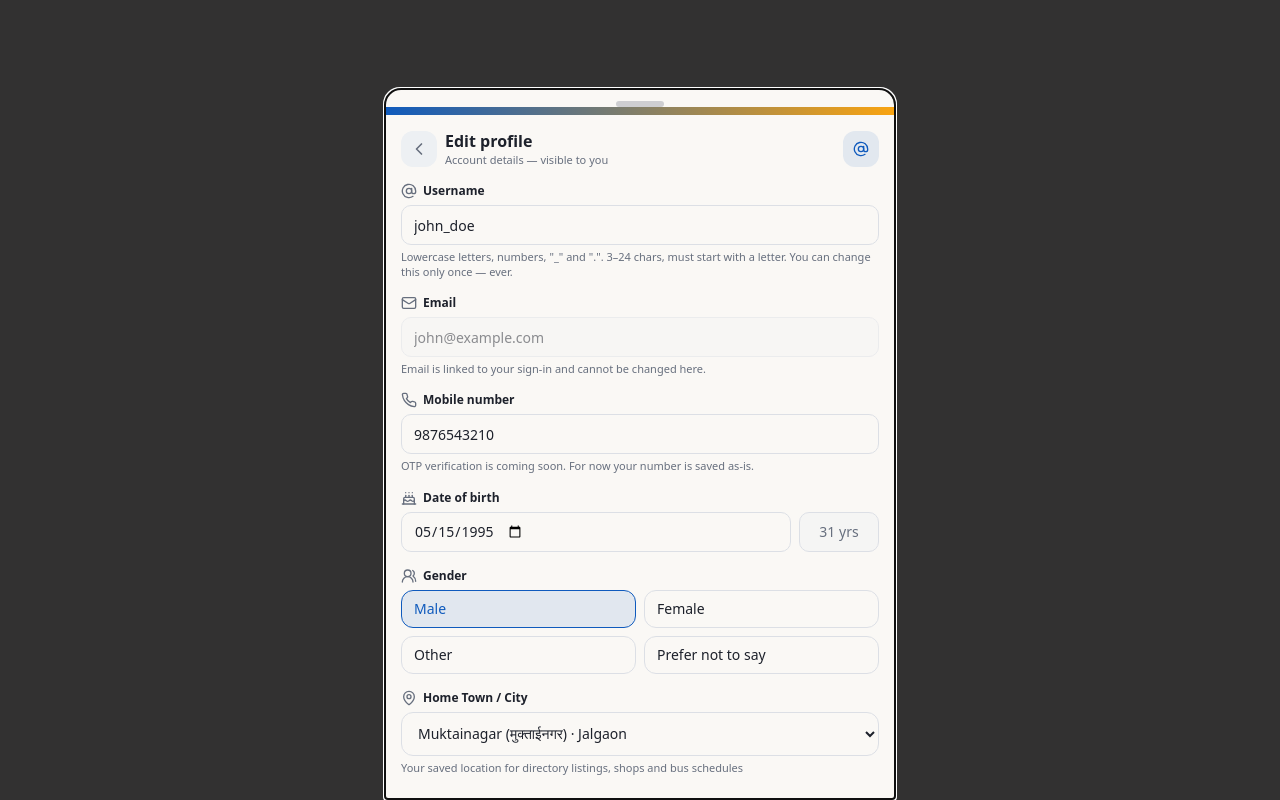
Test: Swipe-Down to Close Mobile Gesture › EditProfileDrawer Unsaved Edits Guard › shows confirmation dialog if user modifies fields and keeps editing
The width and height of the screenshot is (1280, 800).
Modify the phone number field
Replace the text in the field showing "9876543210" below "Mobile number" with "9123456789" at (640, 434), box [401, 414, 879, 454]
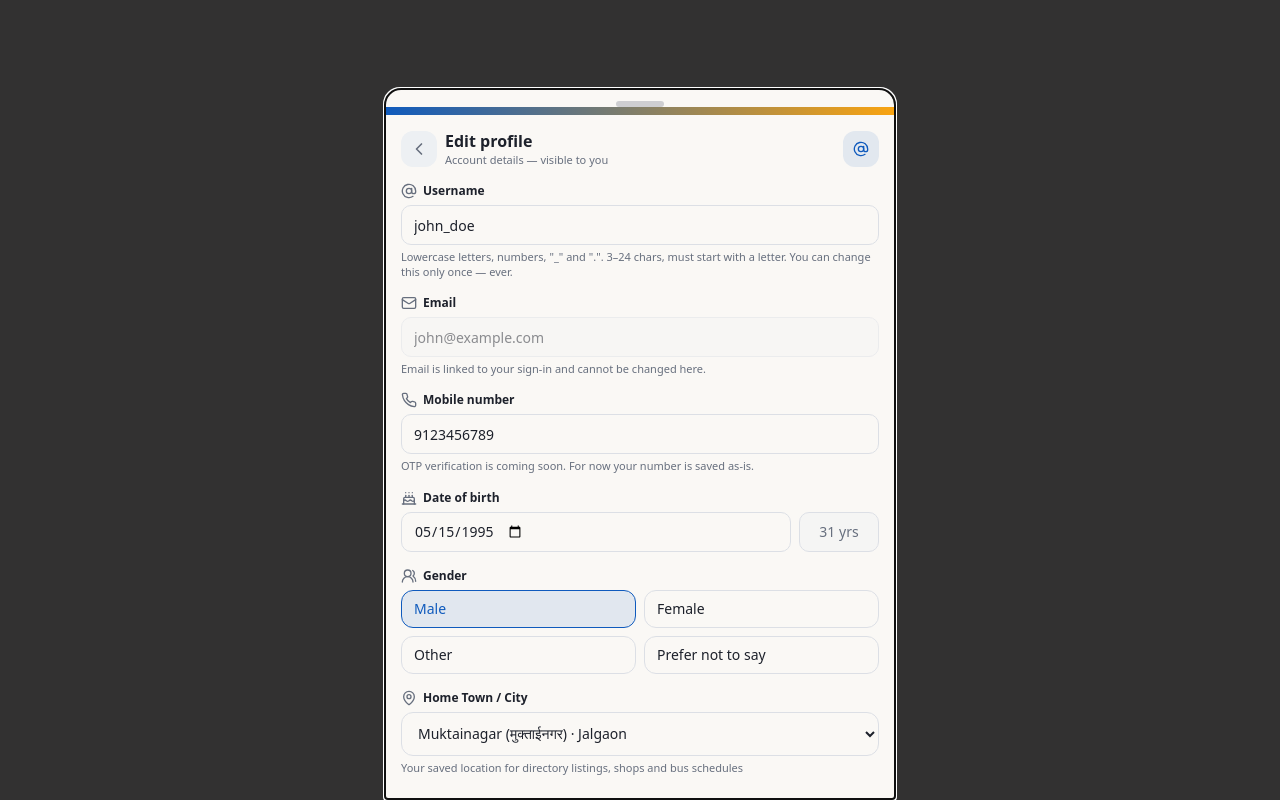
Click the Back / Close button (which calls requestClose)
Click the button named "Back" at (419, 149), box [401, 131, 437, 167]
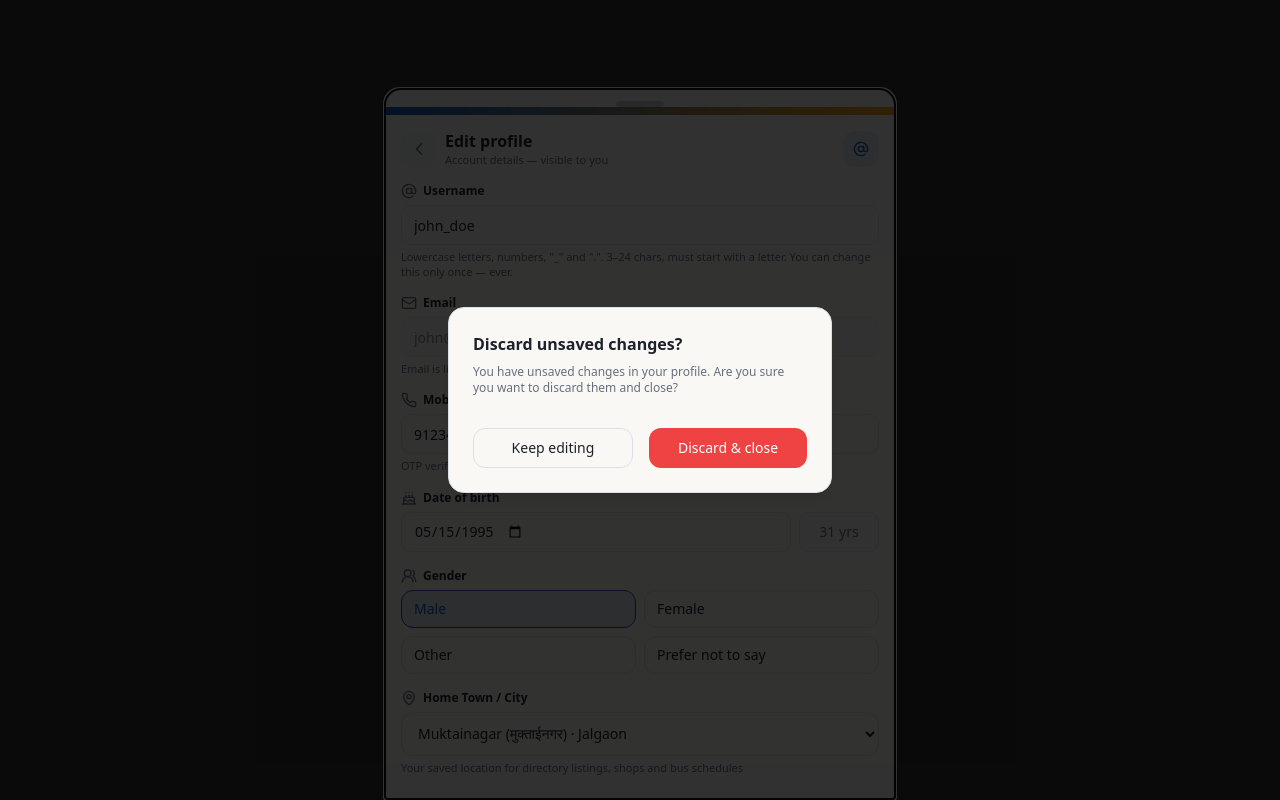
Check: the heading "Discard unsaved changes?" is shown, box [473, 333, 682, 355]
Check: the text "You have unsaved changes in your profile. Are you sure you want to discard them and close?" is shown, box [473, 363, 784, 396]
Click the button "Keep editing" at (553, 448), box [473, 428, 633, 468]
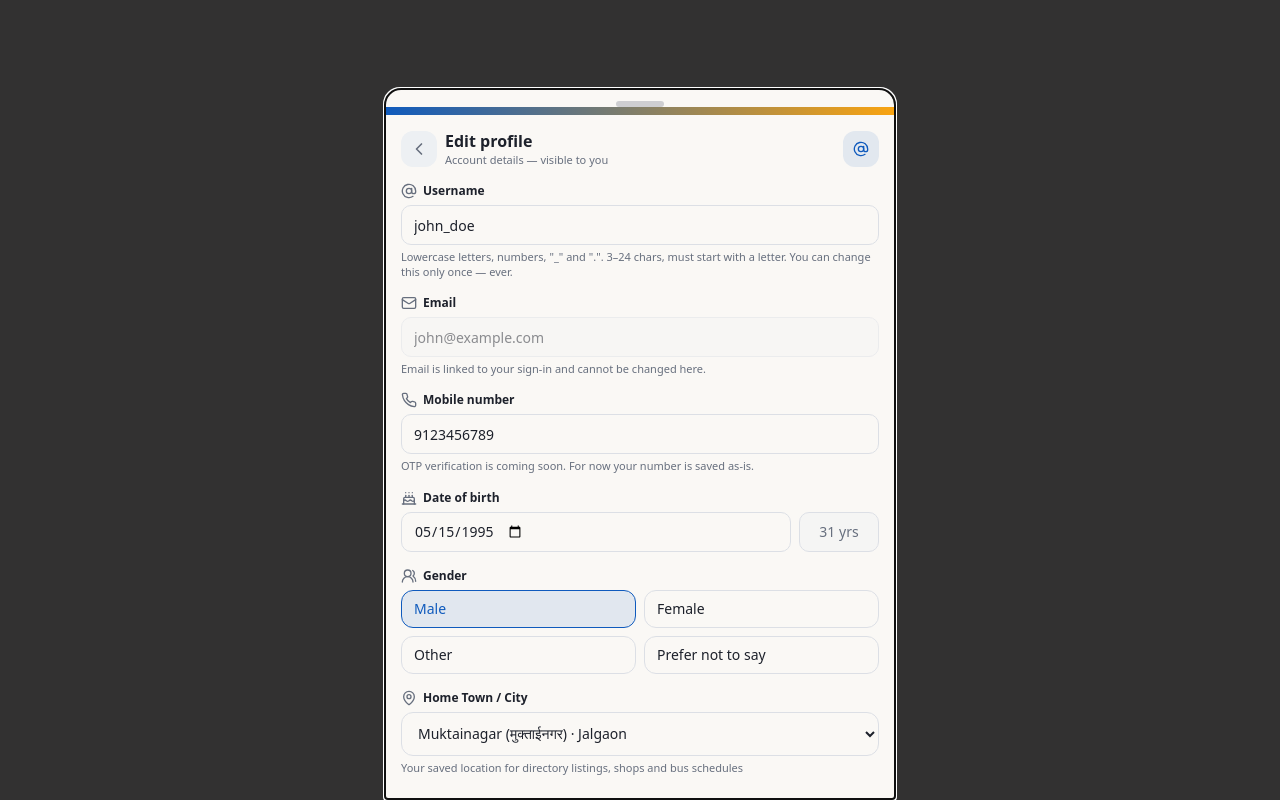
Check: the heading "Discard unsaved changes?" is gone
